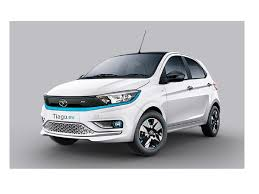Tiago: (37, 48, 225, 161)
